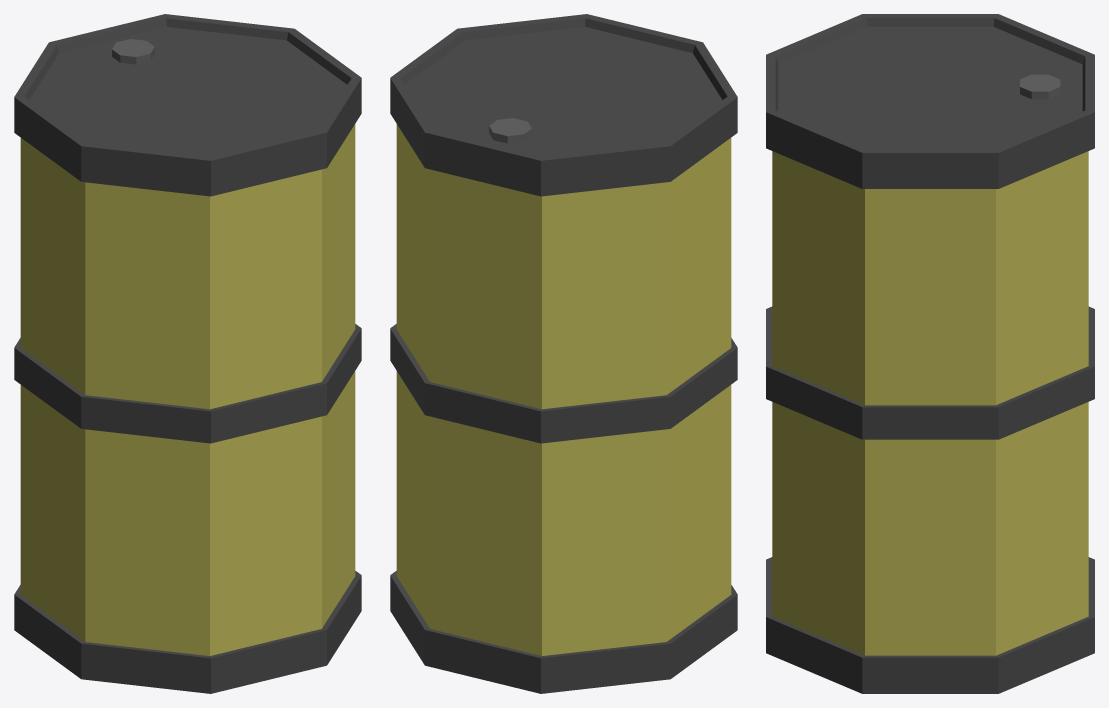
Rendered from SmallMetalBarrel1-4.fbx.
The picture shows the model from 3 angles, left to right: view 1: azimuth 30°, elevation 25°; view 2: azimuth 150°, elevation 25°; view 3: azimuth 270°, elevation 25°; orthographic projection.
Visible parts, largest first — view 1: MetalBarrel.003_LOD0; view 2: MetalBarrel.003_LOD0; view 3: MetalBarrel.003_LOD0.
Part boxes in pixels (x1=…): MetalBarrel.003_LOD0: x1=14, y1=14, x2=361, y2=693; MetalBarrel.003_LOD0: x1=390, y1=14, x2=737, y2=693; MetalBarrel.003_LOD0: x1=766, y1=14, x2=1094, y2=693.
Size of what is drawn, in the model's own units: 141 by 257 by 141.
1 material, 1 textured.
